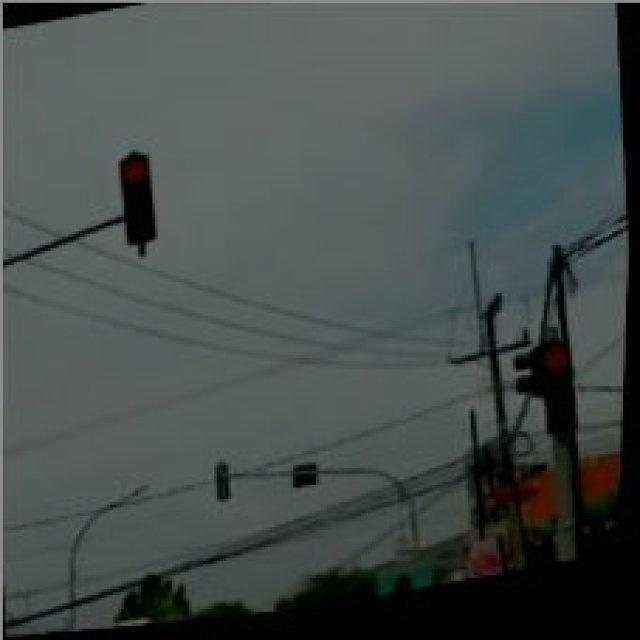Red: (113, 147, 164, 250)
